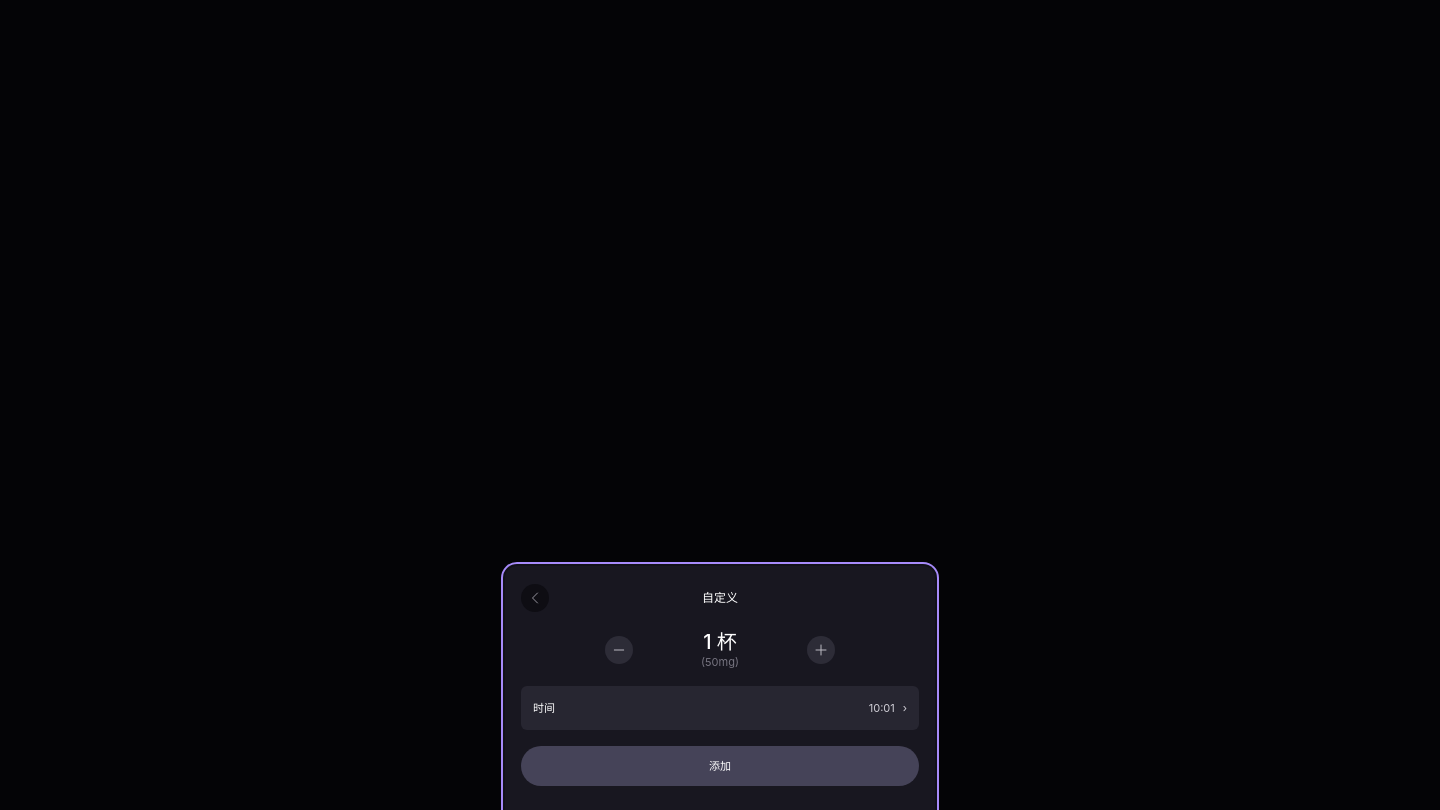
Test: LifeLogEntrySheet › 加减按钮以一个 drink 为步长
Step 1. Click the button named "增加" → (821, 650), box [807,636,835,664]
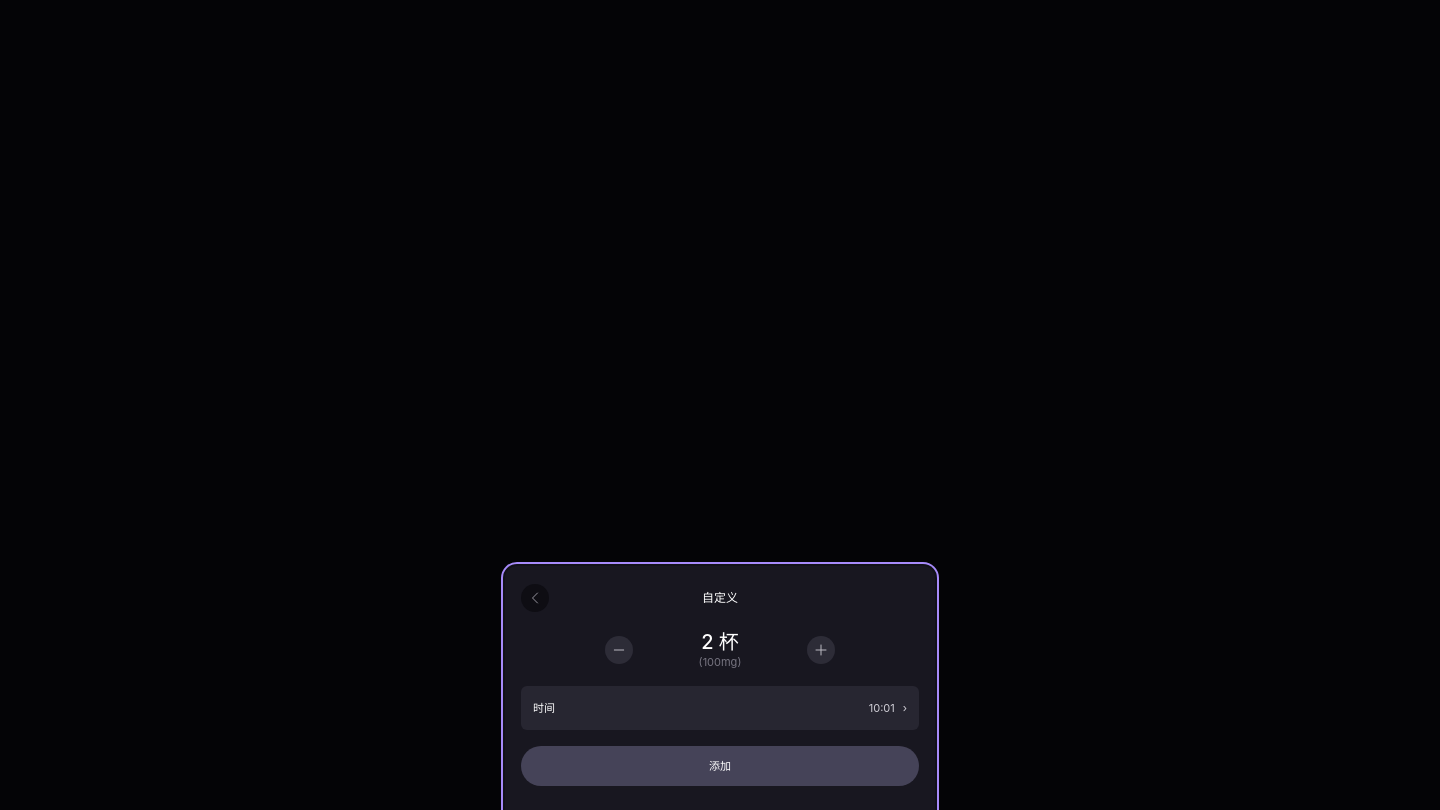
Expected: the text "2 杯" is shown, [701,630,739,654]
Step 2. Click the button named "减少" → (619, 650), box [605,636,633,664]
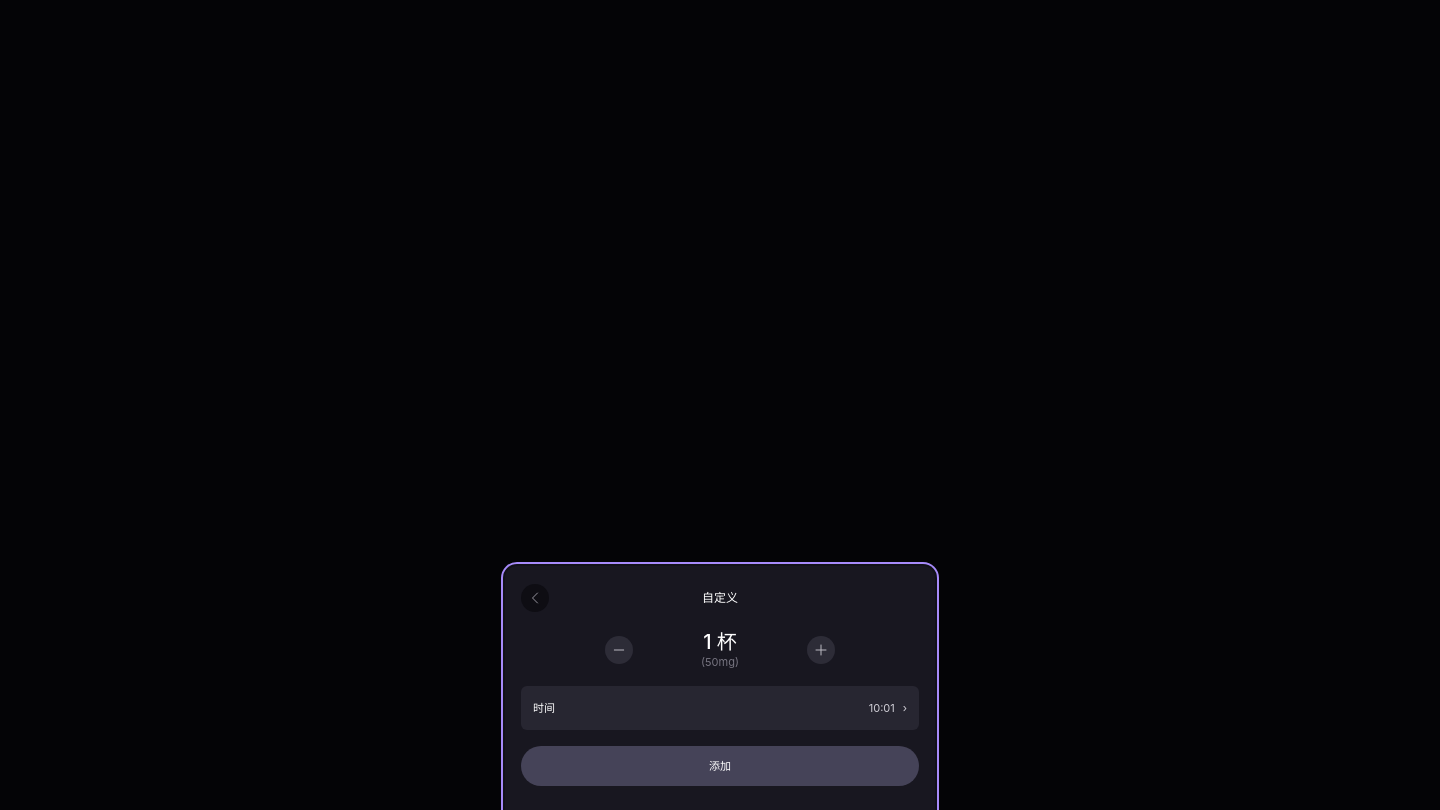
Expected: the text "1 杯" is shown, [703,630,737,654]
